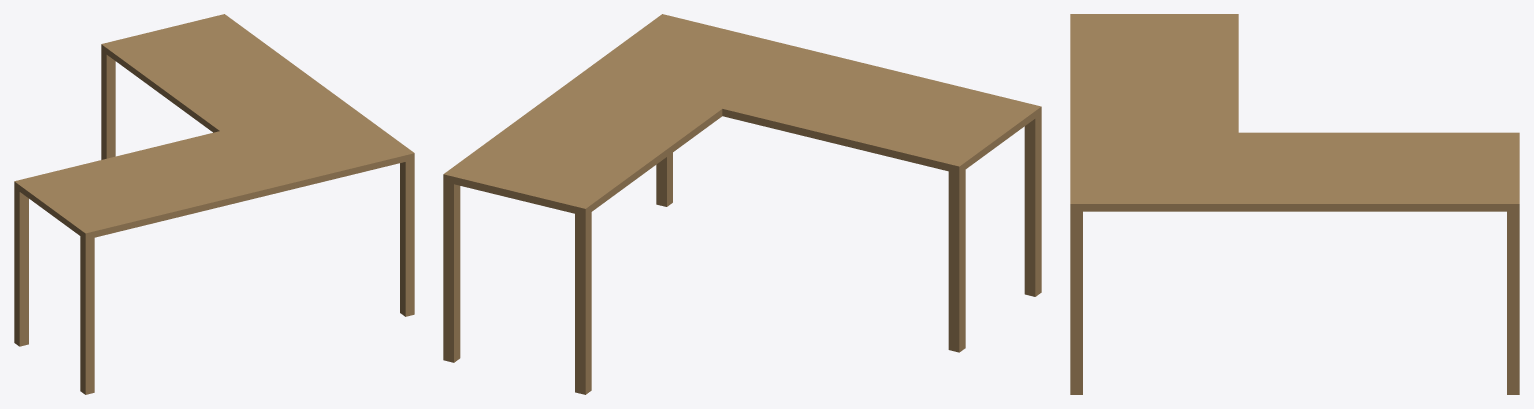
Rendered from SAB-LDK-std.glb.
The picture shows the model from 3 angles, left to right: view 1: azimuth 30°, elevation 25°; view 2: azimuth 150°, elevation 25°; view 3: azimuth 270°, elevation 25°; orthographic projection. The views are drawn at different scales.
Visible parts, largest first — view 1: top-a:pbr, top-b:pbr, leg-0:pbr, leg-1:pbr, leg-2:pbr, leg-3:pbr; view 2: top-a:pbr, top-b:pbr, leg-2:pbr, leg-4:pbr, leg-0:pbr, leg-3:pbr, leg-1:pbr; view 3: top-a:pbr, top-b:pbr, leg-1:pbr, leg-4:pbr.
Part boxes in pixels (x1,y1,x2,y2): top-a:pbr: (14,101,414,239); top-b:pbr: (101,14,342,132); leg-0:pbr: (80,236,94,394); leg-1:pbr: (400,159,414,316); leg-2:pbr: (14,188,28,346); leg-3:pbr: (101,51,115,159); top-a:pbr: (581,14,1041,173); top-b:pbr: (443,74,722,216); leg-2:pbr: (948,170,965,352); leg-4:pbr: (443,181,460,362); leg-0:pbr: (1024,114,1041,296); leg-3:pbr: (575,212,591,394); leg-1:pbr: (656,152,672,206); top-a:pbr: (1070,14,1238,211); top-b:pbr: (1238,132,1519,211); leg-1:pbr: (1070,211,1082,394); leg-4:pbr: (1507,211,1519,394).
Size of the model in its own units: 1.6 by 0.75 by 1.6.
